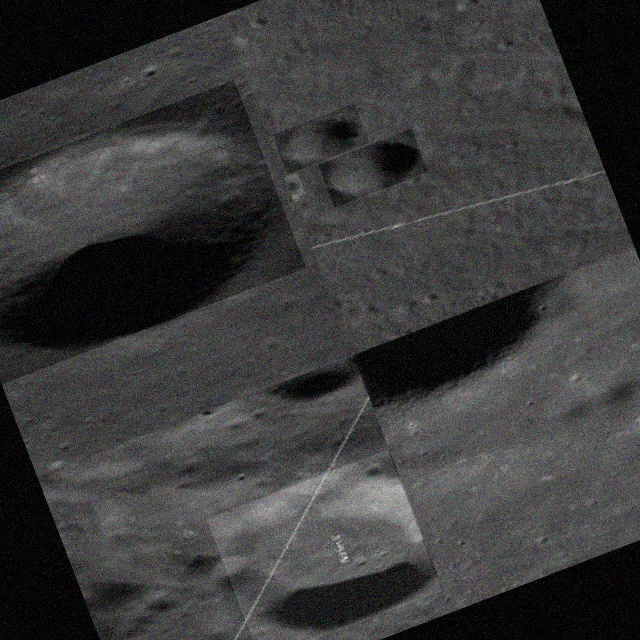crater: (0, 79, 306, 384), (206, 449, 442, 640), (318, 128, 428, 208), (272, 103, 370, 174), (285, 172, 306, 198)
